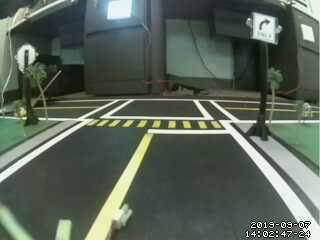Right_only_sign: (247, 10, 277, 45)
